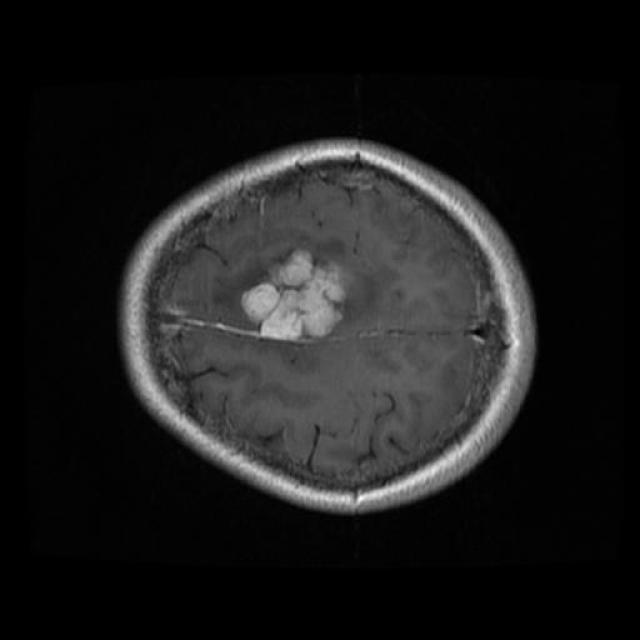Meningioma: (243, 250, 345, 341)
